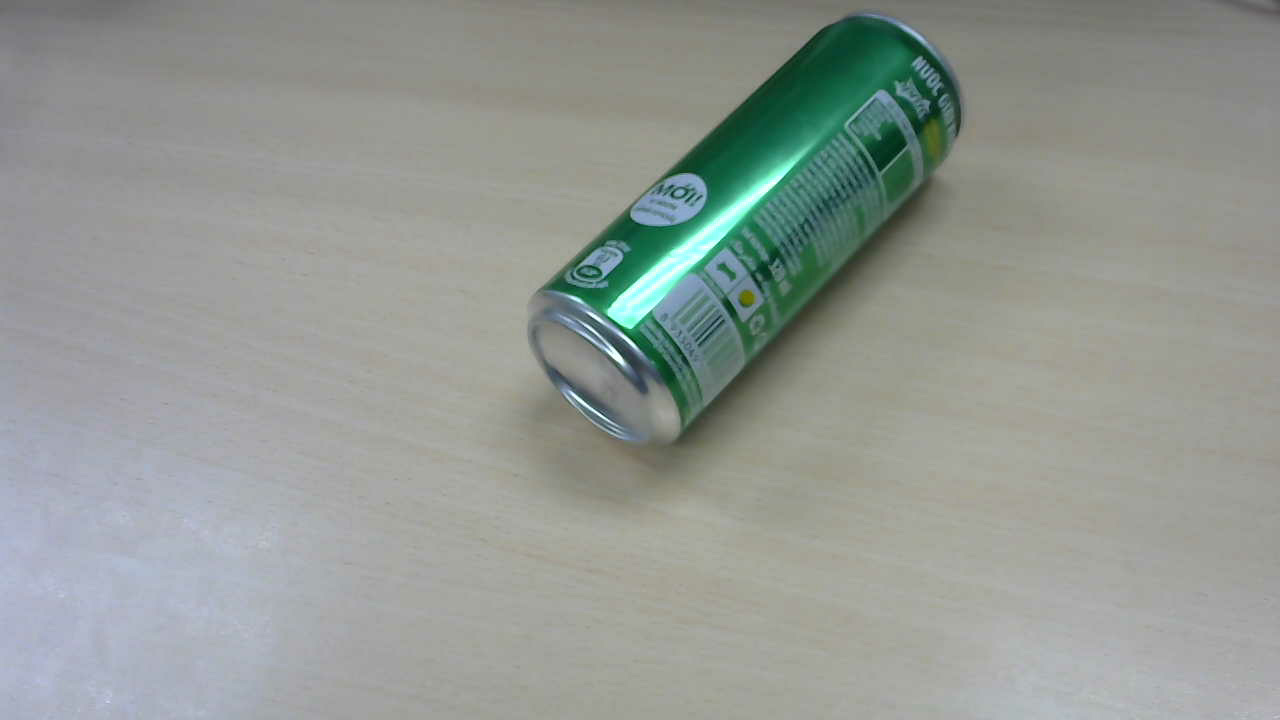Sprite: (524, 17, 976, 448)
